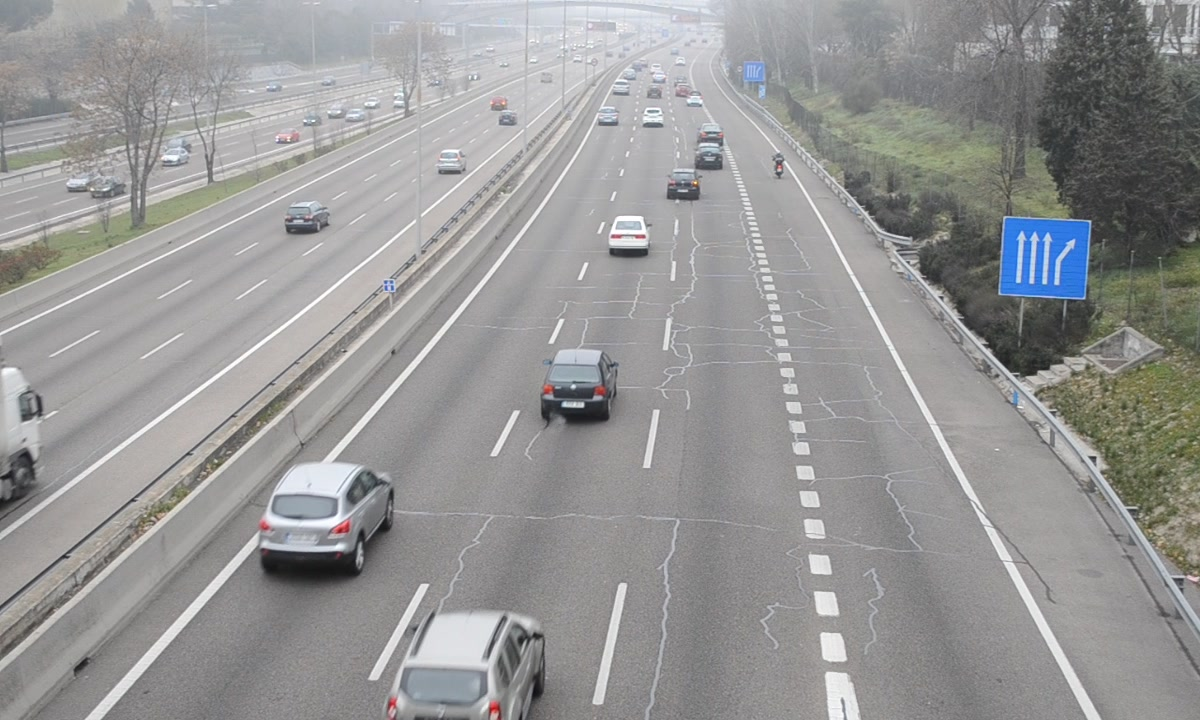car: (388, 608, 543, 720), (259, 463, 393, 558), (543, 350, 616, 415), (609, 215, 652, 251), (666, 168, 700, 199), (695, 143, 724, 170), (640, 106, 666, 129), (699, 123, 726, 145)
motorcycle: (772, 151, 786, 181)
